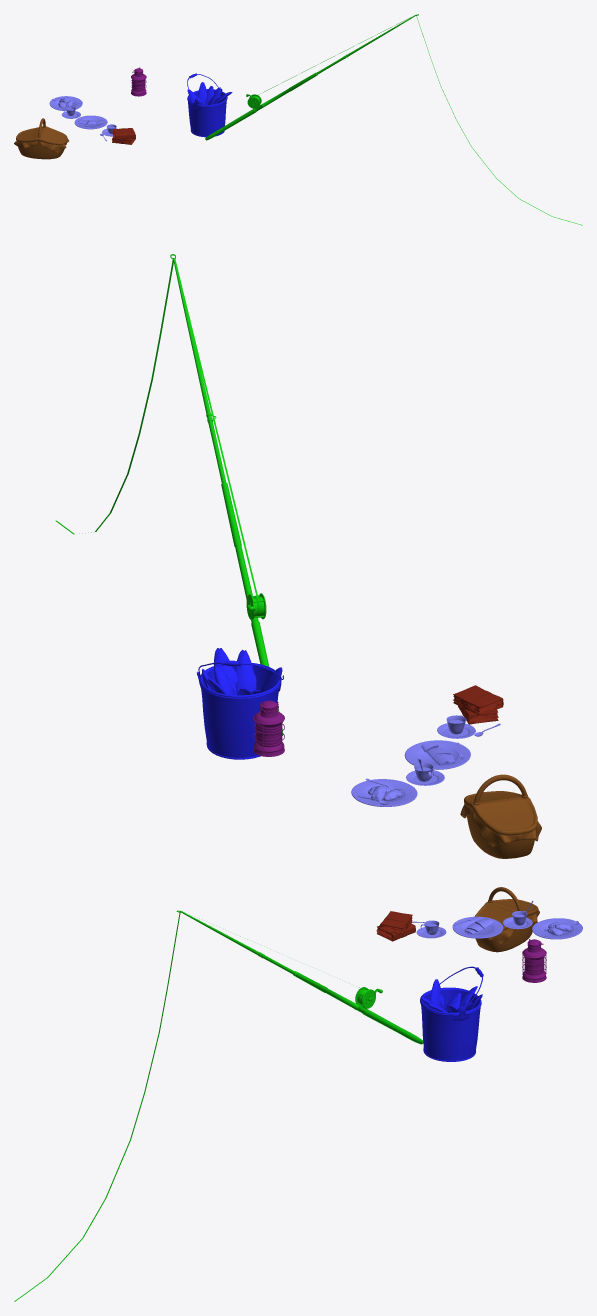
File: gannetprops.fbx
The picture shows the model from 3 angles, top to bottom: view 1: azimuth 30°, elevation 25°; view 2: azimuth 150°, elevation 25°; view 3: azimuth 270°, elevation 25°; orthographic projection. The views are drawn at different scales.
Visible parts, largest first — view 1: Object099, Object098, Plane334, Plane336, Cylinder005, Box058; view 2: Object099, Object098, Plane336, Plane334, Cylinder005, Box058; view 3: Object099, Plane336, Plane334, Object098, Cylinder005, Box058.
Boxes of the visible parts, x1,y1,x2,y2 form: Object099: (187, 73, 232, 137); Object098: (14, 118, 69, 159); Plane334: (205, 14, 582, 225); Plane336: (49, 96, 117, 141); Cylinder005: (131, 67, 146, 96); Box058: (112, 128, 135, 144); Object099: (196, 648, 283, 759); Object098: (460, 774, 541, 858); Plane336: (351, 715, 500, 806); Plane334: (55, 254, 283, 735); Cylinder005: (253, 700, 284, 756); Box058: (453, 685, 503, 724); Object099: (420, 966, 483, 1061); Plane336: (412, 901, 582, 939); Plane334: (14, 910, 423, 1301); Object098: (475, 887, 539, 952); Cylinder005: (522, 939, 546, 982); Box058: (376, 911, 415, 941).
Size of the model in its own units: 428 by 201 by 338.
